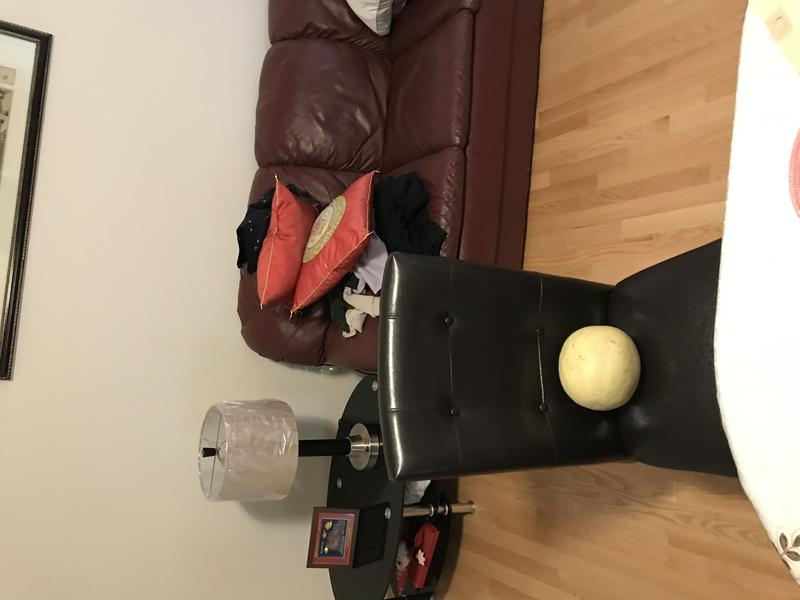honeydew: (554, 317, 647, 419)
